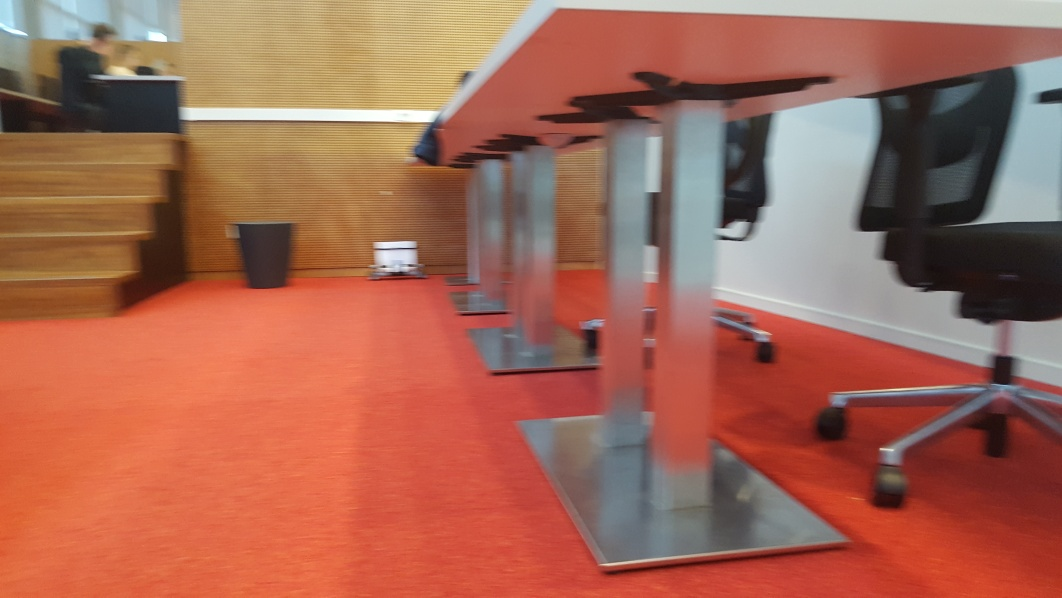car: (365, 239, 428, 281)
